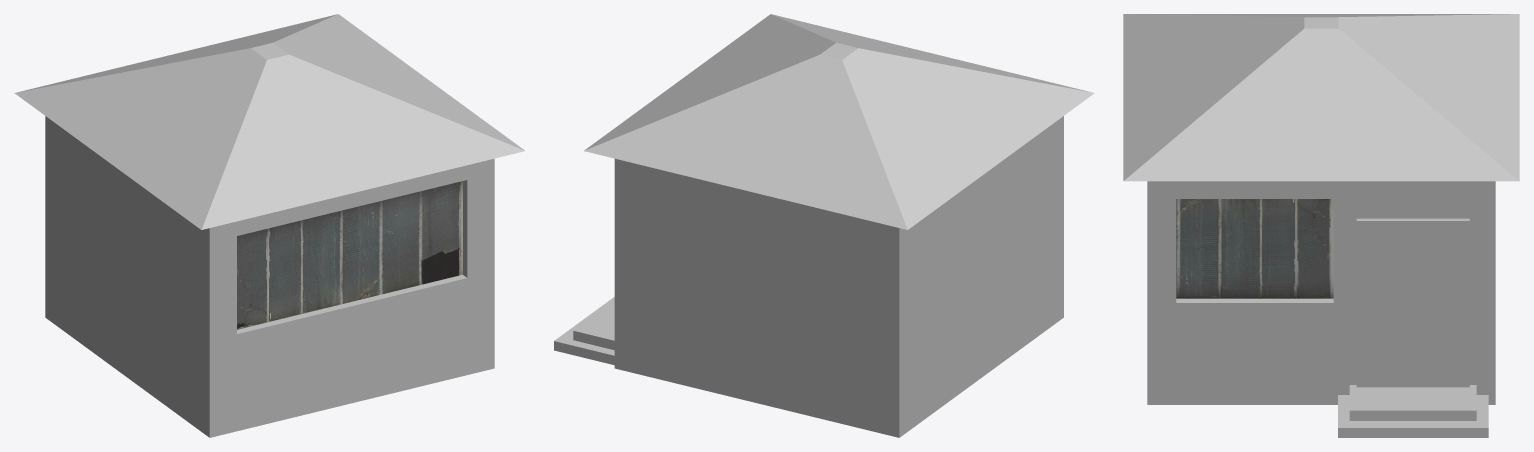
File: TDAWV2_GuardBooth.fbx
3 views of the same model, side by side, from view 1: azimuth 30°, elevation 25°; view 2: azimuth 150°, elevation 25°; view 3: azimuth 270°, elevation 25° (orthographic). The views are drawn at different scales.
Visible parts, largest first — view 1: TDAWV2_GuardBooth; view 2: TDAWV2_GuardBooth; view 3: TDAWV2_GuardBooth.
Boxes of the visible parts, box(x1,y1,x2,y2) form: TDAWV2_GuardBooth: box(14, 14, 524, 437); TDAWV2_GuardBooth: box(554, 14, 1094, 437); TDAWV2_GuardBooth: box(1123, 14, 1519, 437).
Size of the model in its own units: 6097 by 5367 by 4613.
